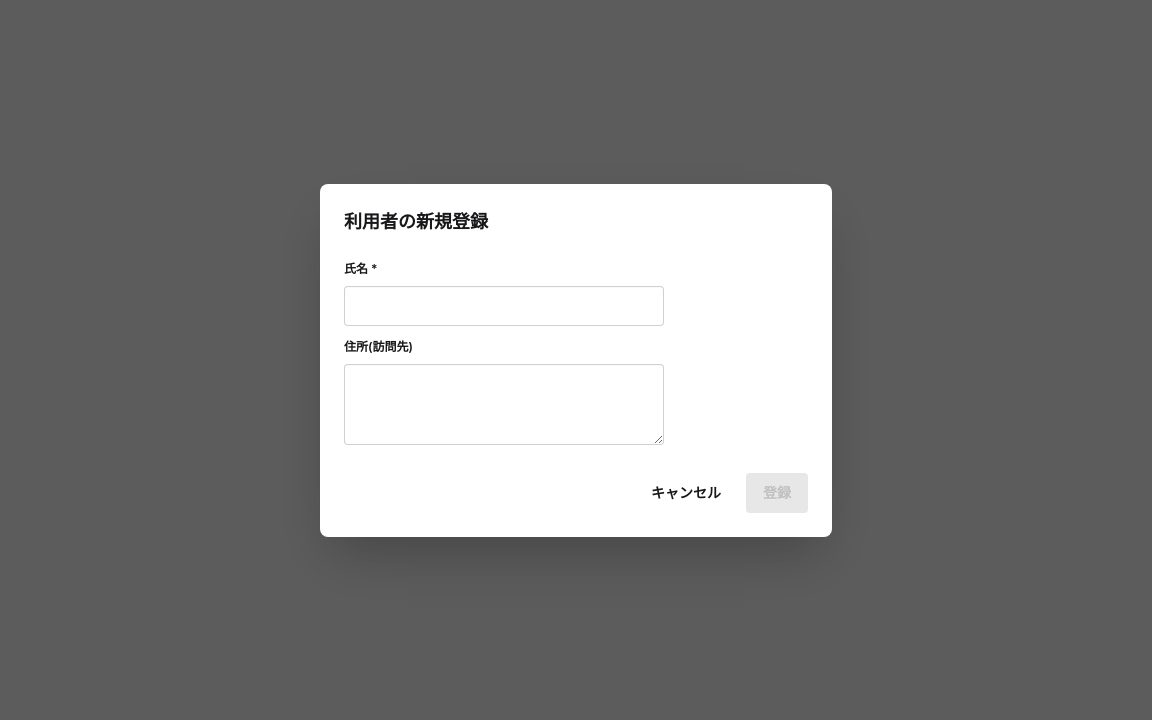
Test case: ClientModal › バリデーションエラーがある場合はボタンが無効化される
Check: the button "登録" is disabled, box left=746, top=472, right=808, bottom=512
Type "テスト太郎" into the field labelled "氏名 *" at (504, 306), box left=344, top=286, right=664, bottom=326
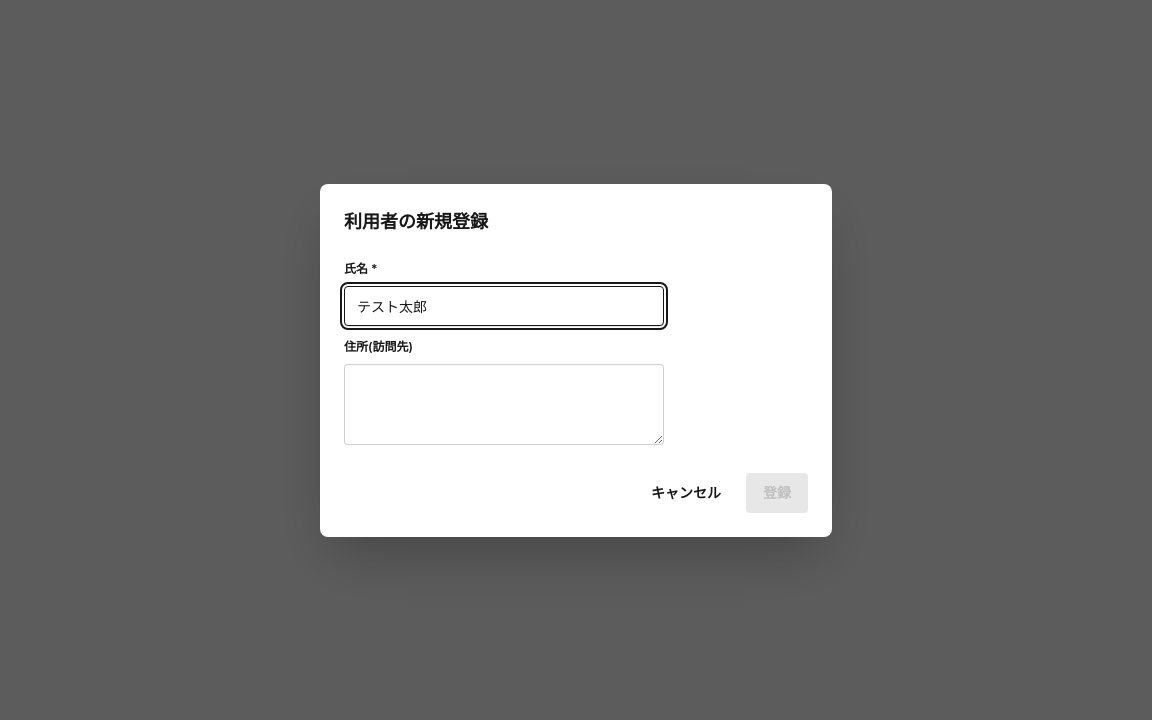
Press Tab
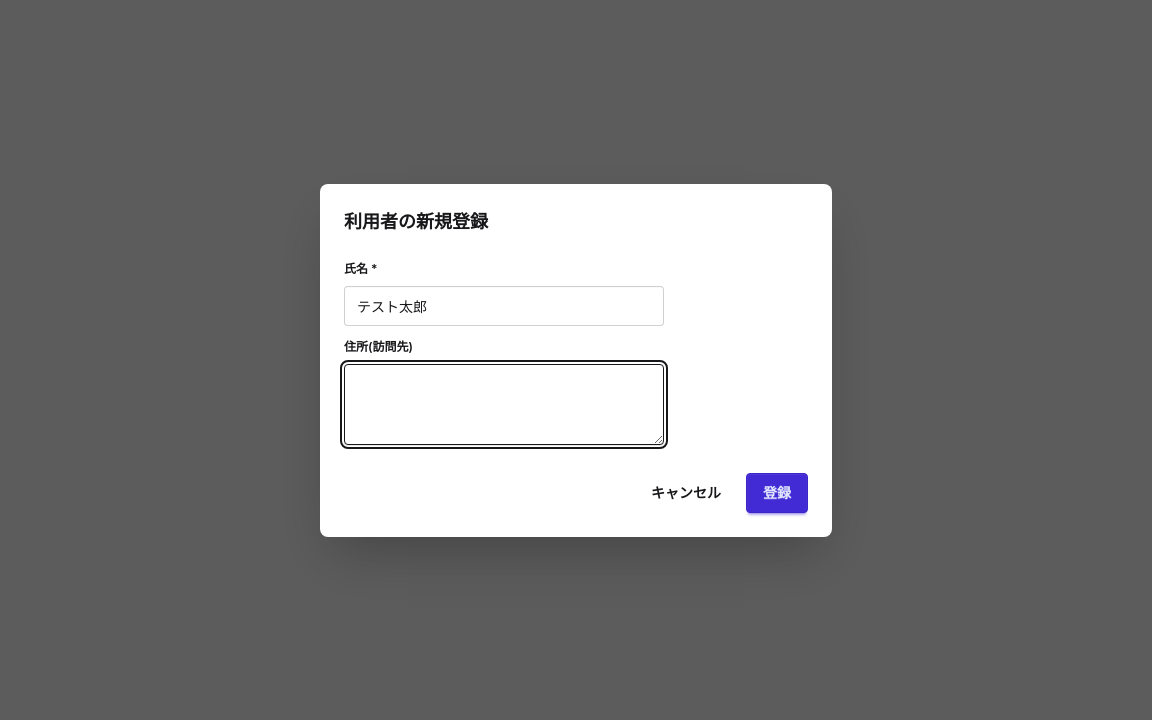
Check: the button "登録" is enabled, box left=746, top=472, right=808, bottom=512
